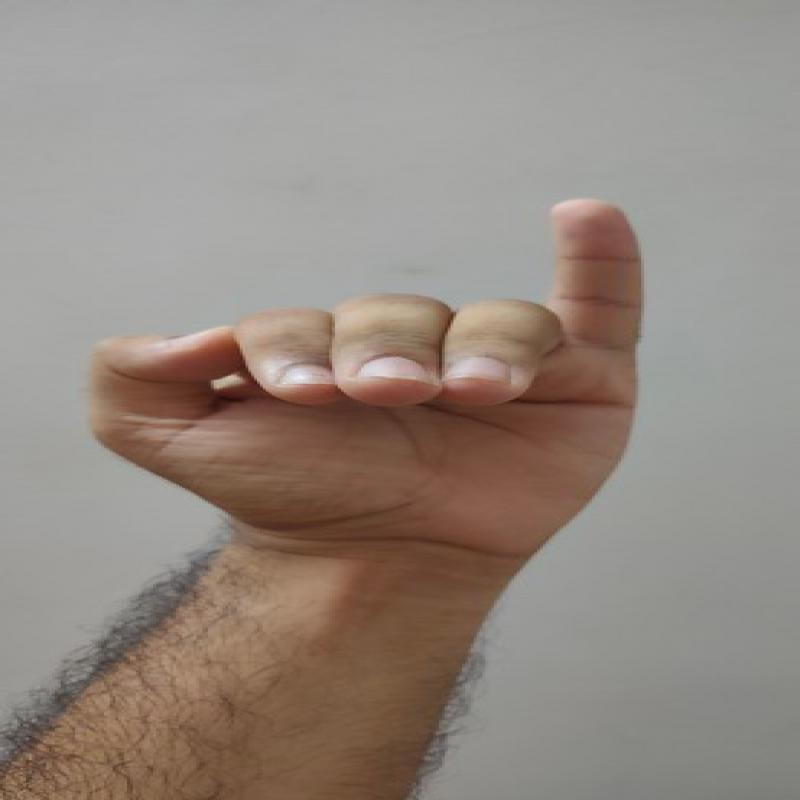Kartharee Mukham: (74, 188, 678, 579)
